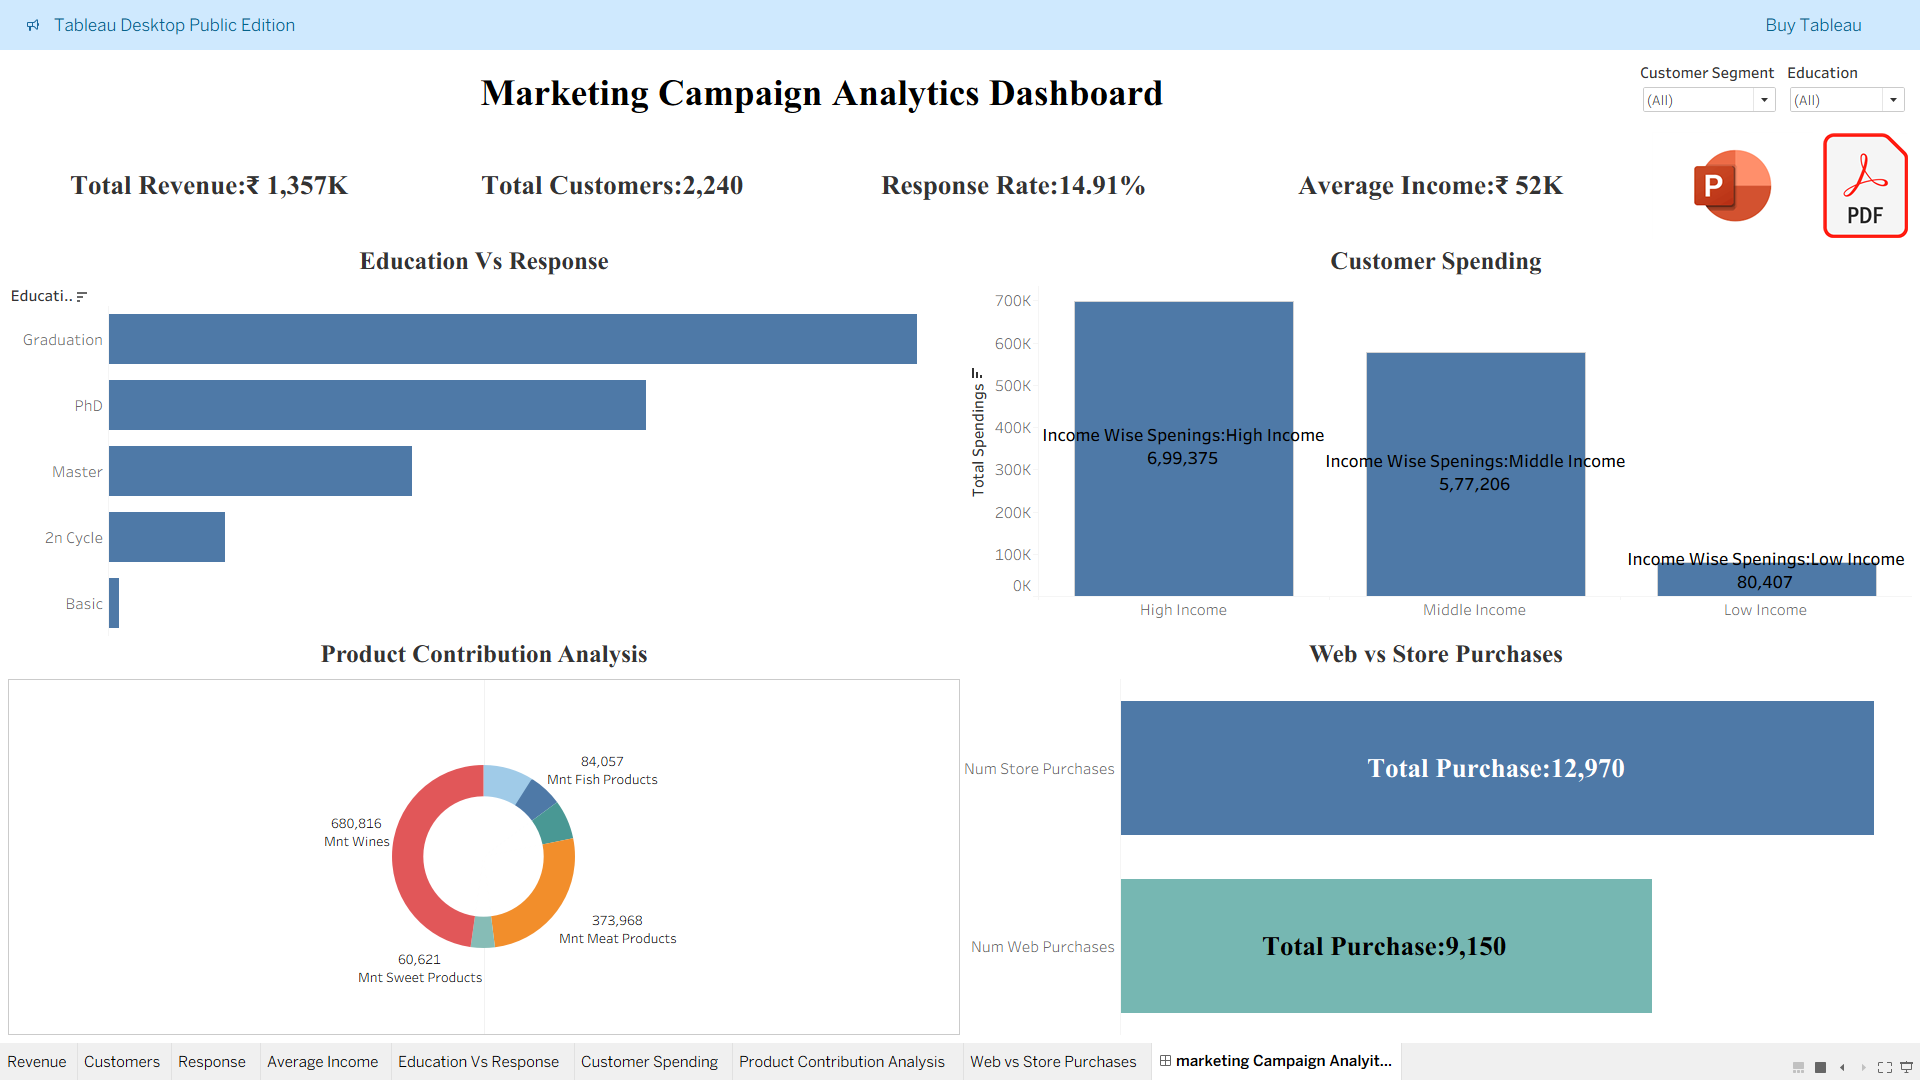

Layout of this report page (visuals, bound fields, positions):
{"tool":"tableau","page":{"name":"Dashboard 1","canvas":[1000,1000],"units":"permille","ordinal":0},"visuals":[{"type":"text","box":[4.8,10,846.7,70.3]},{"type":"filter","title":"Customer Spending","param":"[federated.149qffz1t3rrqf1as8cnd09qj3m6].[none:Calculation_439945392172752898:nk","box":[851.5,10,76.6,70.3]},{"type":"filter","title":"Education Vs Response","param":"[federated.149qffz1t3rrqf1as8cnd09qj3m6].[none:Education:nk]","box":[928.2,10,67,70.3]},{"type":"worksheet","title":"Revenue","mark":"Automatic","box":[4.8,80.2,247.6,115.5]},{"type":"worksheet","title":"Customers","mark":"Automatic","box":[252.4,80.2,247.6,115.5]},{"type":"worksheet","title":"Response ","mark":"Automatic","box":[500,80.2,247.6,115.5]},{"type":"worksheet","title":"Average Income","mark":"Automatic","box":[747.6,80.2,247.6,115.5]},{"type":"worksheet","title":"Education Vs Response","mark":"Automatic","rows":["Education"],"cols":["Response"],"box":[4.8,195.7,495.2,394.5]},{"type":"worksheet","title":"Customer Spending","mark":"Automatic","rows":["Calculation_439945392172351488"],"cols":["Calculation_439945392172752898"],"box":[500,195.7,495.2,394.5]},{"type":"worksheet","title":"Product Contribution Analysis","mark":"Pie","cols":["Calculation_439945392181714947","Calculation_439945392181714947"],"box":[4.8,590.3,495.2,399.8]},{"type":"worksheet","title":"Web vs Store Purchases","mark":"Automatic","box":[500,590.3,495.2,399.8]}]}

Visuals, with their boxes on the dashboard's canvas, which has no fixed pixel size, in thousandths of its width and height (x1, y1, x2, y2). These are canvas units, not pixel positions in the 1920x1080 screenshot, which may show the page scaled, cropped or inside an application window:
text: detection(5, 10, 852, 80)
"Customer Spending" filter: detection(852, 10, 928, 80)
"Education Vs Response" filter: detection(928, 10, 995, 80)
"Revenue" worksheet: detection(5, 80, 252, 196)
"Customers" worksheet: detection(252, 80, 500, 196)
"Response " worksheet: detection(500, 80, 748, 196)
"Average Income" worksheet: detection(748, 80, 995, 196)
"Education Vs Response" worksheet: detection(5, 196, 500, 590)
"Customer Spending" worksheet: detection(500, 196, 995, 590)
"Product Contribution Analysis" worksheet (Pie marks): detection(5, 590, 500, 990)
"Web vs Store Purchases" worksheet: detection(500, 590, 995, 990)
